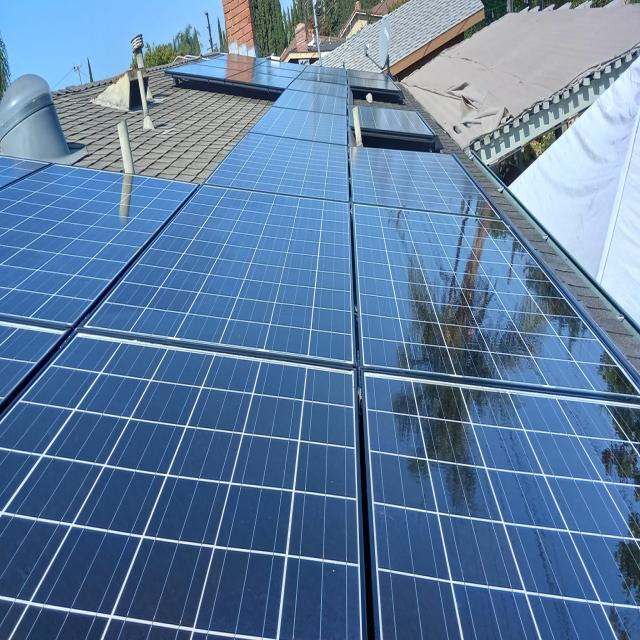clean-solar-panel: (1, 56, 640, 639)
